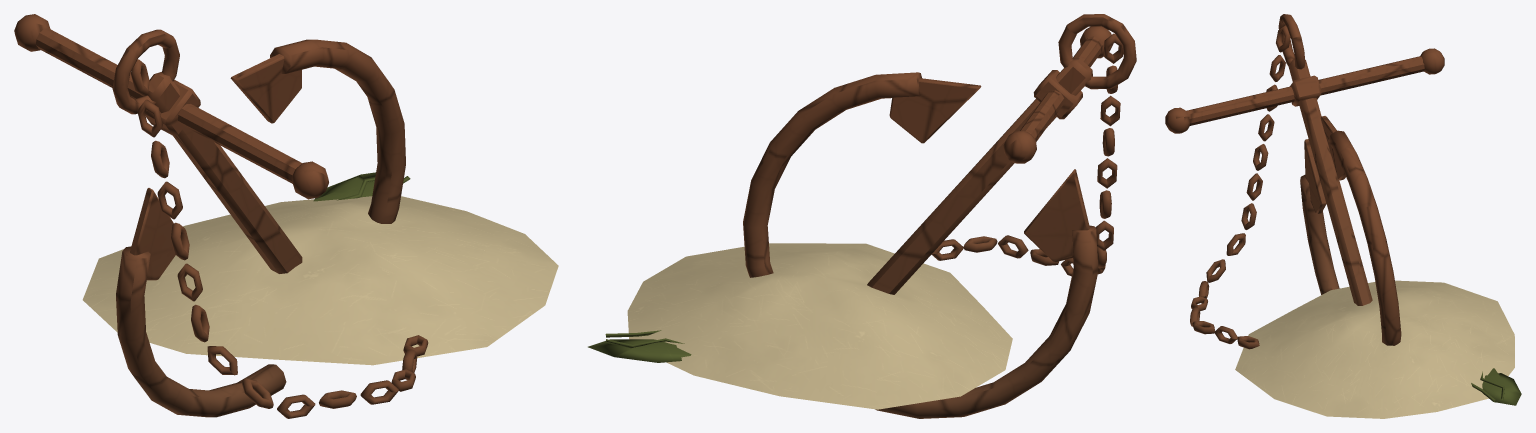
Rendered from anchor_rusty.glb.
3 renders of one model, left to right at view 1: azimuth 30°, elevation 25°; view 2: azimuth 150°, elevation 25°; view 3: azimuth 270°, elevation 25°, orthographic. The views are drawn at different scales.
Parts seen in each view (by area): view 1: anchor_rusty; view 2: anchor_rusty; view 3: anchor_rusty.
Part boxes in pixels (x1=…): anchor_rusty: x1=14, y1=14, x2=558, y2=418; anchor_rusty: x1=588, y1=14, x2=1136, y2=418; anchor_rusty: x1=1165, y1=14, x2=1521, y2=418.
Size of the model in its own units: 2.92 by 2.61 by 2.67.
Materials: 4 (4 with a texture image).
